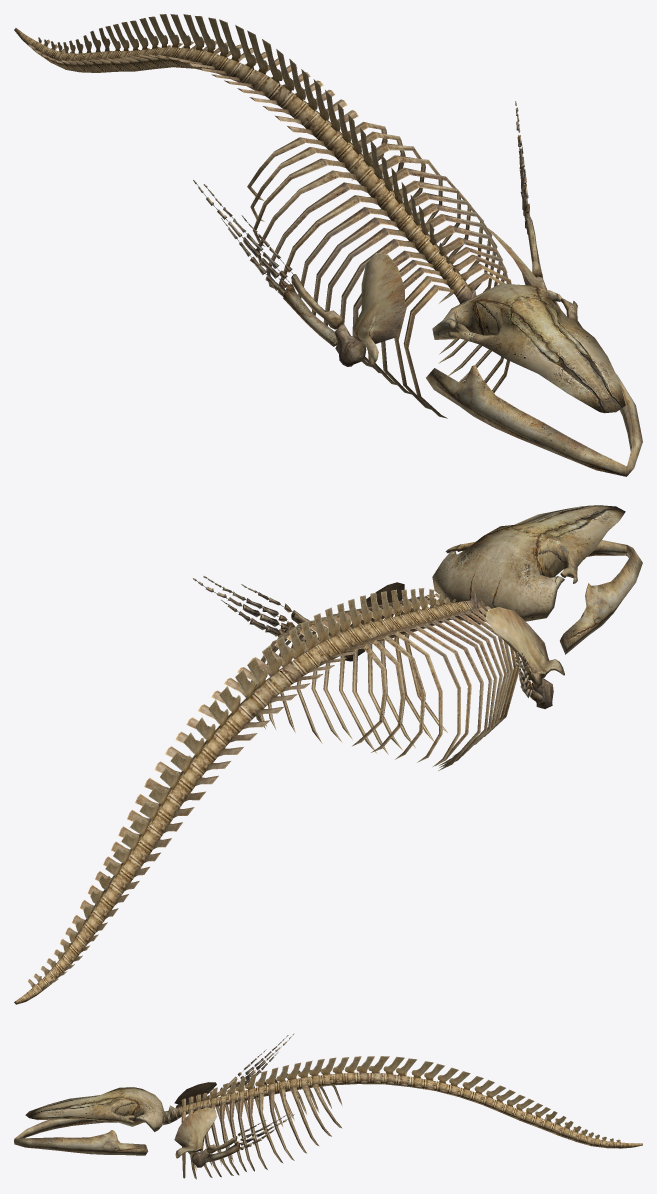
The model's file is Bones.fbx.
3 views of the same model, one above another, from view 1: azimuth 30°, elevation 25°; view 2: azimuth 150°, elevation 25°; view 3: azimuth 270°, elevation 25° (orthographic). The views are drawn at different scales.
Parts seen in each view (by area): view 1: _Aquarium_BlueWhaleSkeleton_UNDAMAGED; view 2: _Aquarium_BlueWhaleSkeleton_UNDAMAGED; view 3: _Aquarium_BlueWhaleSkeleton_UNDAMAGED.
Part boxes in pixels (x1=…): _Aquarium_BlueWhaleSkeleton_UNDAMAGED: x1=14, y1=14, x2=642, y2=476; _Aquarium_BlueWhaleSkeleton_UNDAMAGED: x1=14, y1=505, x2=642, y2=1004; _Aquarium_BlueWhaleSkeleton_UNDAMAGED: x1=14, y1=1033, x2=642, y2=1179.
Bounding box in the file's own units: 9.33 × 6.44 × 30.55.
